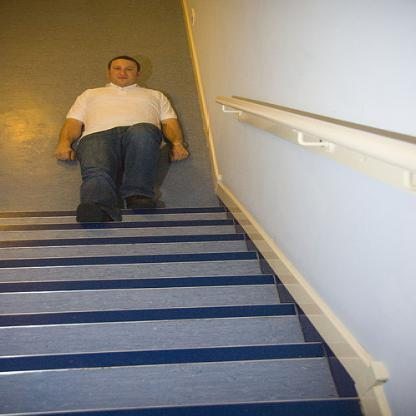stairs: (13, 232, 249, 416)
